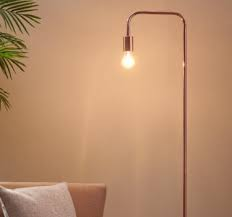bulb: (111, 42, 148, 76)
